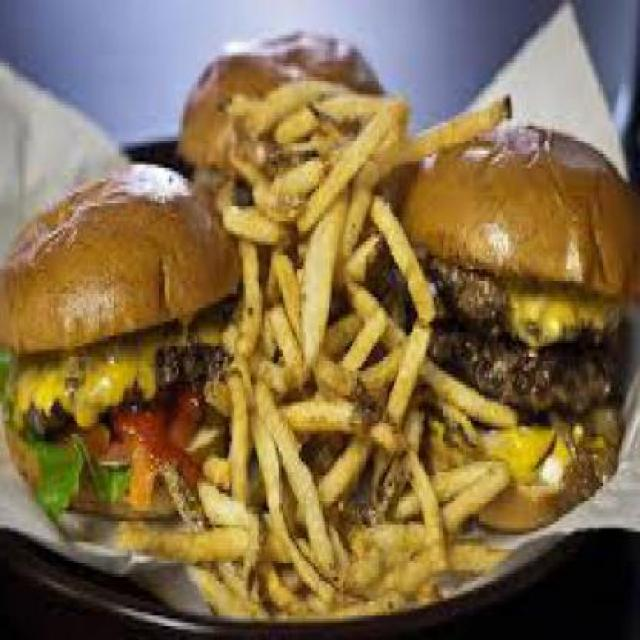french fries: (204, 87, 450, 619)
hamburger: (400, 115, 638, 536), (2, 150, 227, 528), (178, 28, 388, 164)
